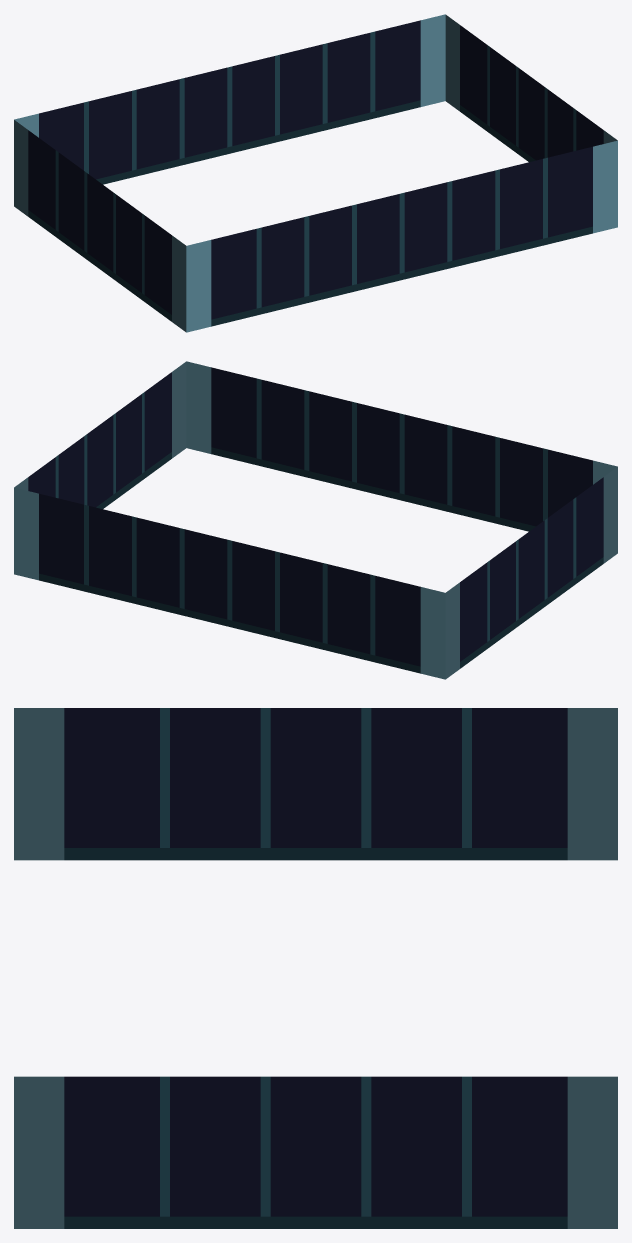
The model's file is TB_CITY_Skysc_A_BodyA_Blue.FBX.
3 views of the same model, one above another, from view 1: azimuth 30°, elevation 25°; view 2: azimuth 150°, elevation 25°; view 3: azimuth 270°, elevation 25° (orthographic). The views are drawn at different scales.
Visible parts, largest first — view 1: TB_CITY_Skysc_A_BodyA_Blue; view 2: TB_CITY_Skysc_A_BodyA_Blue; view 3: TB_CITY_Skysc_A_BodyA_Blue.
Boxes of the visible parts, <box> form: TB_CITY_Skysc_A_BodyA_Blue: <box>14,14,617,332</box>; TB_CITY_Skysc_A_BodyA_Blue: <box>14,361,617,679</box>; TB_CITY_Skysc_A_BodyA_Blue: <box>14,708,617,1228</box>.
Bounding box in the file's own units: 26 × 5 × 18.
